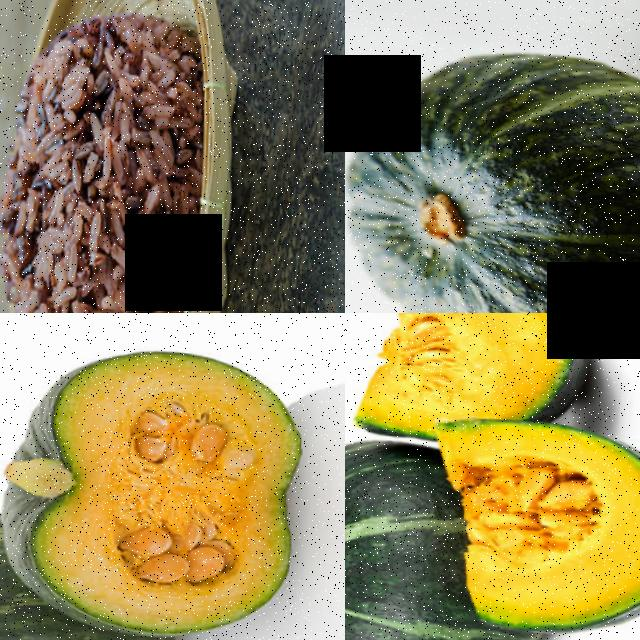pumpkin: (0, 333, 309, 635), (345, 27, 640, 313), (437, 411, 640, 635), (356, 313, 594, 424), (345, 435, 460, 640)
red rice: (0, 0, 199, 313)
